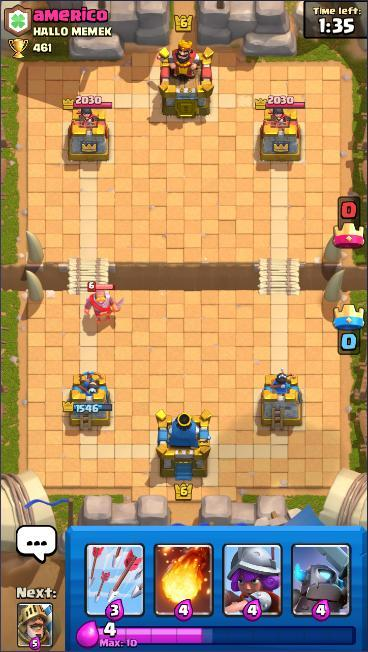enemy_knight: (82, 280, 125, 323)
